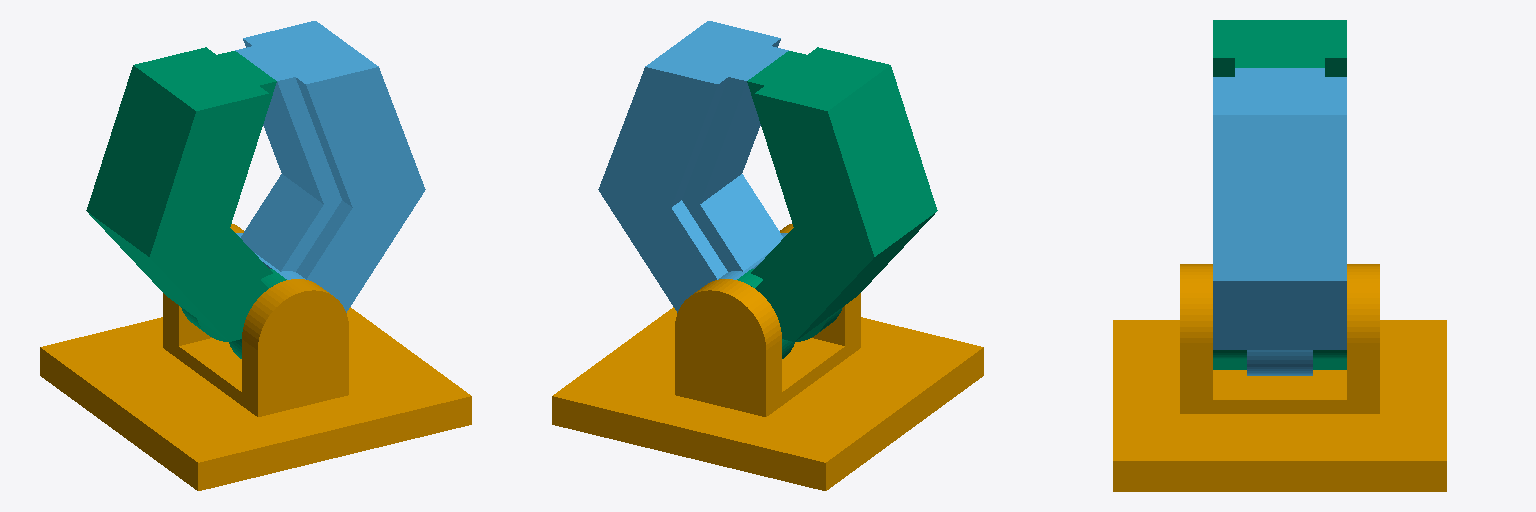
URDF robot description (gripper_a):
<?xml version="1.0" ?>
<robot name="gripper_a">

<link name="gripper_a_base_link">
  <inertial>
    <origin xyz="-7.377384471738979e-15 0.0 0.003077681810644516" rpy="0 0 0"/>
    <mass value="0.028323974793777462"/>
    <inertia ixx="2e-06" iyy="2e-06" izz="4e-06" ixy="-0.0" iyz="0.0" ixz="0.0"/>
  </inertial>
  <visual>
    <origin xyz="0 0 0" rpy="0 0 0"/>
    <geometry>
      <mesh filename="meshes/gripper_a_base_link.stl" scale="0.001 0.001 0.001"/>
    </geometry>
    <material name="silver"/>
  </visual>
  <collision>
    <origin xyz="0 0 0" rpy="0 0 0"/>
    <geometry>
      <mesh filename="meshes/gripper_a_base_link.stl" scale="0.001 0.001 0.001"/>
    </geometry>
  </collision>
</link>

<link name="gripper_a_gl_1">
  <inertial>
    <origin xyz="0.006908917643153909 0.0 0.012037201025252875" rpy="0 0 0"/>
    <mass value="0.02257569481798892"/>
    <inertia ixx="2e-06" iyy="2e-06" izz="1e-06" ixy="0.0" iyz="0.0" ixz="-0.0"/>
  </inertial>
  <visual>
    <origin xyz="-0.0 -0.0 -0.01" rpy="0 0 0"/>
    <geometry>
      <mesh filename="meshes/gripper_a_gl_1.stl" scale="0.001 0.001 0.001"/>
    </geometry>
    <material name="silver"/>
  </visual>
  <collision>
    <origin xyz="-0.0 -0.0 -0.01" rpy="0 0 0"/>
    <geometry>
      <mesh filename="meshes/gripper_a_gl_1.stl" scale="0.001 0.001 0.001"/>
    </geometry>
  </collision>
</link>

<link name="gripper_a_gr_1">
  <inertial>
    <origin xyz="-0.006998007090120641 0.005999999999999998 0.012235716657799047" rpy="0 0 0"/>
    <mass value="0.02210404358591467"/>
    <inertia ixx="2e-06" iyy="2e-06" izz="1e-06" ixy="-0.0" iyz="-0.0" ixz="0.0"/>
  </inertial>
  <visual>
    <origin xyz="-0.0 0.006 -0.01" rpy="0 0 0"/>
    <geometry>
      <mesh filename="meshes/gripper_a_gr_1.stl" scale="0.001 0.001 0.001"/>
    </geometry>
    <material name="silver"/>
  </visual>
  <collision>
    <origin xyz="-0.0 0.006 -0.01" rpy="0 0 0"/>
    <geometry>
      <mesh filename="meshes/gripper_a_gr_1.stl" scale="0.001 0.001 0.001"/>
    </geometry>
  </collision>
</link>

<link name="gripper_a_AP_1">
  <inertial>
    <origin xyz="1.3877787807814462e-19 0.0 -4.506096355706241e-19" rpy="0 0 0"/>
    <mass value="3.288200310757325e-05"/>
    <inertia ixx="0.0" iyy="0.0" izz="0.0" ixy="0.0" iyz="-0.0" ixz="0.0"/>
  </inertial>
  
  
</link>

<joint name="Revolute 1" type="revolute">
  <origin xyz="0.0 0.0 0.01" rpy="0 0 0"/>
  <parent link="gripper_a_base_link"/>
  <child link="gripper_a_gl_1"/>
  <axis xyz="0.0 1.0 0.0"/>
  <limit upper="0.785398" lower="0.0" effort="100" velocity="100"/>
</joint>

<joint name="Revolute 2" type="revolute">
  <origin xyz="0.0 -0.006 0.01" rpy="0 0 0"/>
  <parent link="gripper_a_base_link"/>
  <child link="gripper_a_gr_1"/>
  <axis xyz="0.0 1.0 0.0"/>
  <limit upper="0.0" lower="-0.785398" effort="100" velocity="100"/>
</joint>

<joint name="Rigid 4" type="fixed">
  <origin xyz="0.0 0.0 0.0" rpy="0 0 0"/>
  <parent link="gripper_a_base_link"/>
  <child link="gripper_a_AP_1"/>
</joint>

</robot>

--- What the picture shows (computed from the rendered views, not written in the file) ---
3 views of the same robot in one strip: view 1: azimuth 30°, elevation 25°; view 2: azimuth 150°, elevation 25°; view 3: azimuth 270°, elevation 25° (orthographic).
Robot: gripper_a — 4 links, 3 joints (2 revolute, 1 fixed); root link gripper_a_base_link; default pose: all joints at 0.
Visible links, largest first — view 1: gripper_a_base_link, gripper_a_gr_1, gripper_a_gl_1; view 2: gripper_a_base_link, gripper_a_gr_1, gripper_a_gl_1; view 3: gripper_a_base_link, gripper_a_gl_1, gripper_a_gr_1.
Boxes of the visible links, left/top/right/bottom form: gripper_a_base_link: left=40, top=224, right=471, bottom=490; gripper_a_gr_1: left=86, top=47, right=286, bottom=358; gripper_a_gl_1: left=235, top=21, right=425, bottom=312; gripper_a_base_link: left=552, top=224, right=983, bottom=490; gripper_a_gr_1: left=737, top=47, right=937, bottom=358; gripper_a_gl_1: left=598, top=21, right=788, bottom=312; gripper_a_base_link: left=1113, top=264, right=1446, bottom=491; gripper_a_gl_1: left=1213, top=68, right=1346, bottom=375; gripper_a_gr_1: left=1213, top=20, right=1346, bottom=369.
Size in the robot's own frame: 0.0303 by 0.03 by 0.035 metres.
Meshes: 3 distinct files referenced, 3 mesh visuals loaded (3 binary STL).